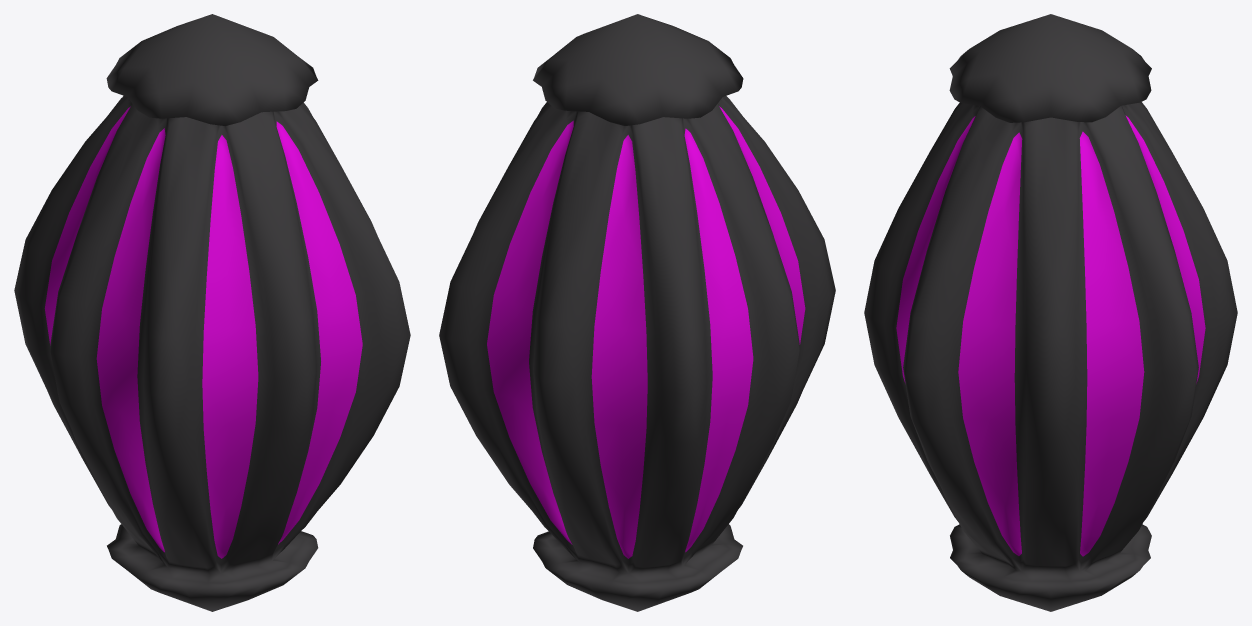
File: Stone_Lights.fbx
The picture shows the model from 3 angles, left to right: view 1: azimuth 30°, elevation 25°; view 2: azimuth 150°, elevation 25°; view 3: azimuth 270°, elevation 25°; orthographic projection.
Parts seen in each view (by area): view 1: Cube; view 2: Cube; view 3: Cube.
Boxes of the visible parts, x1,y1,x2,y2 form: Cube: (14, 14, 410, 611); Cube: (439, 14, 835, 611); Cube: (864, 14, 1237, 611).
Size of the model in its own units: 176 by 310 by 176.
